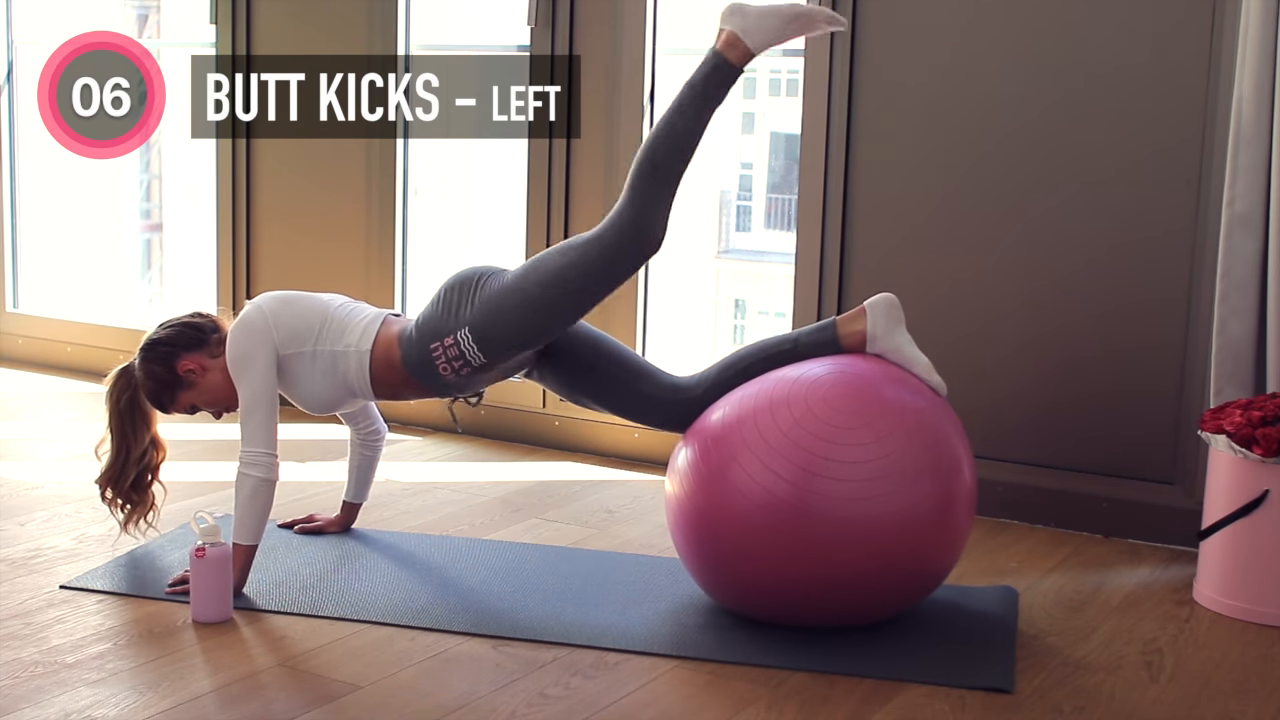yogaball: (652, 347, 989, 636)
